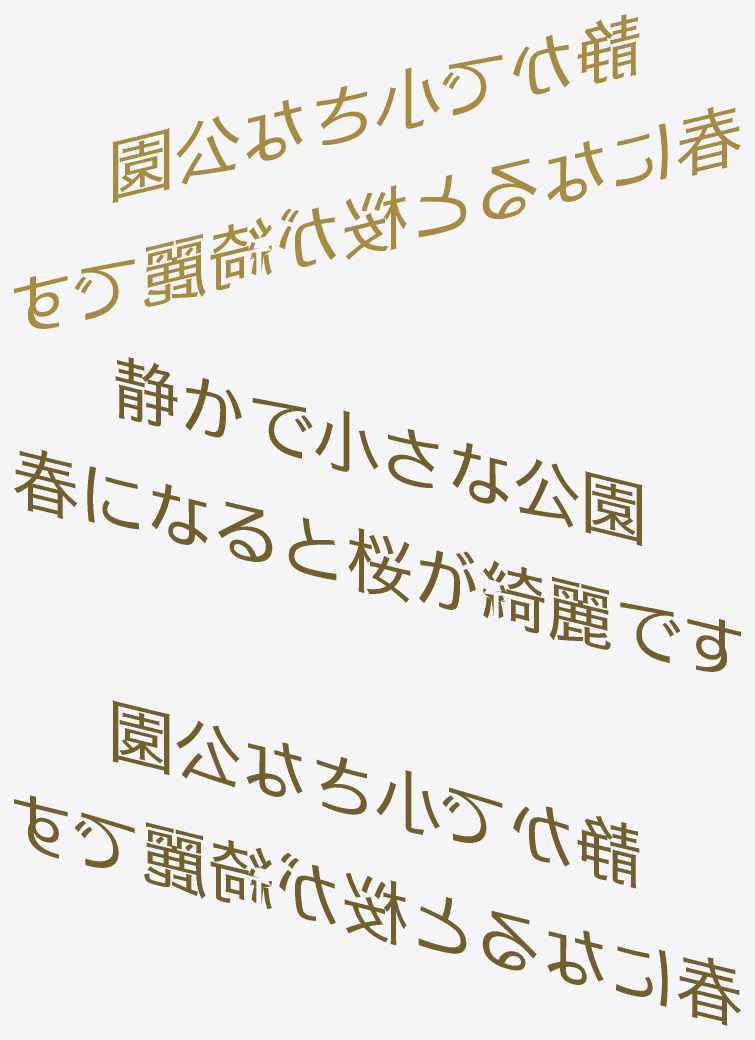
The model's file is chigusadai32yellow.glb.
3 views of the same model, one above another, from view 1: azimuth 30°, elevation 25°; view 2: azimuth 150°, elevation 25°; view 3: azimuth 330°, elevation 25° (orthographic).
Parts seen in each view (by area): view 1: テキスト; view 2: テキスト; view 3: テキスト.
Boxes of the visible parts, bbox=[...] form: テキスト: bbox=[14, 14, 740, 328]; テキスト: bbox=[14, 357, 740, 671]; テキスト: bbox=[14, 700, 740, 1025].
Size of the model in its own units: 3.32 by 0.7849 by 5.4e-07.
